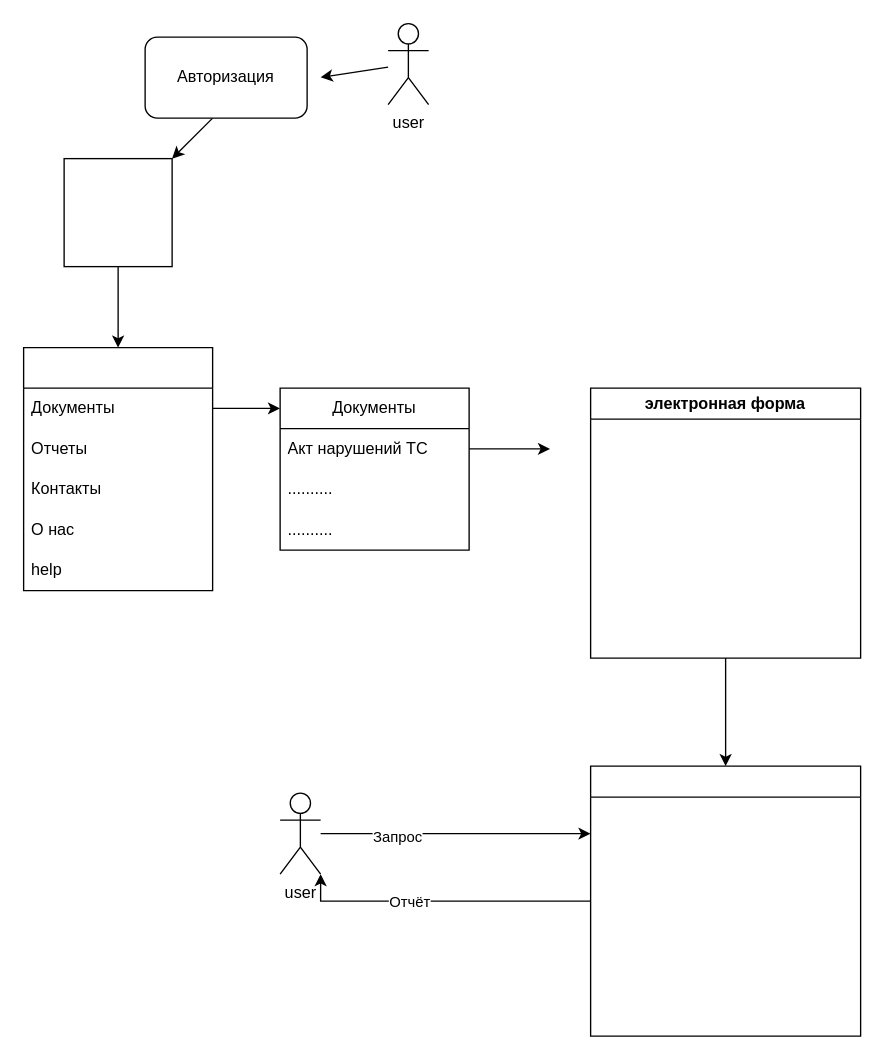
This 884x1060 diagram has some shape labels left out. The box of each missing label's shape, as (x1, y1, x2, y2) in pixels:
База данных: (589, 765, 861, 1036)
Меню: (22, 346, 213, 591)
тг БОТ: (63, 157, 172, 267)
